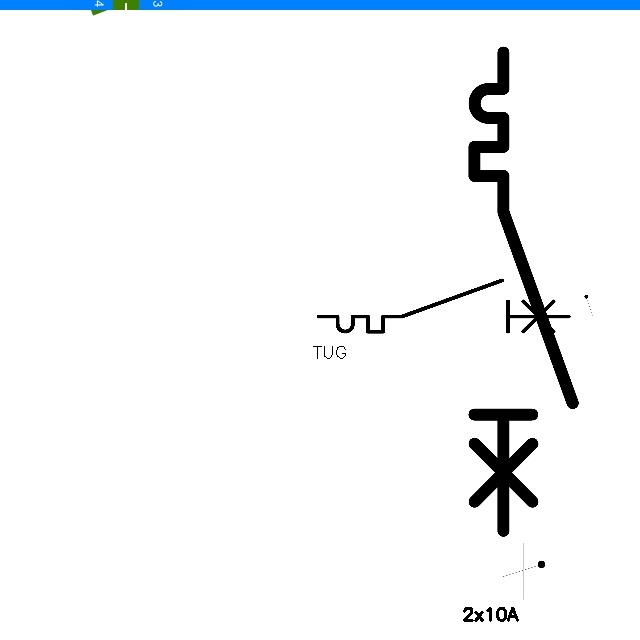interruptor_termomagnetico: (462, 40, 585, 543), (312, 274, 575, 338)
